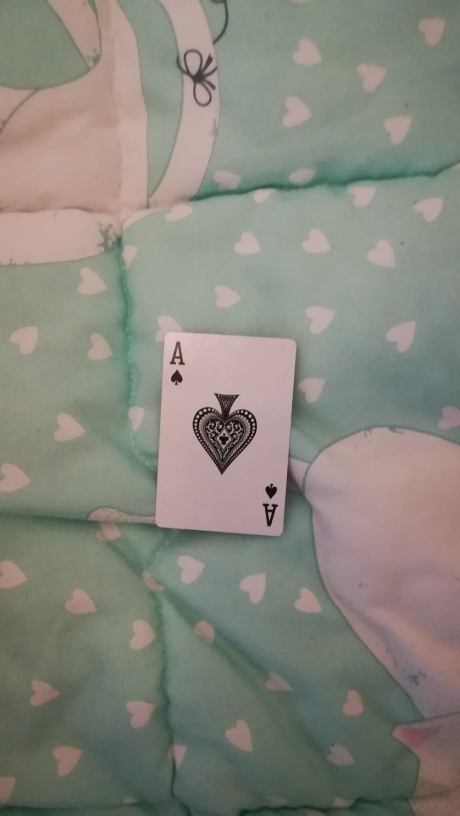ht a: (161, 327, 294, 542)
